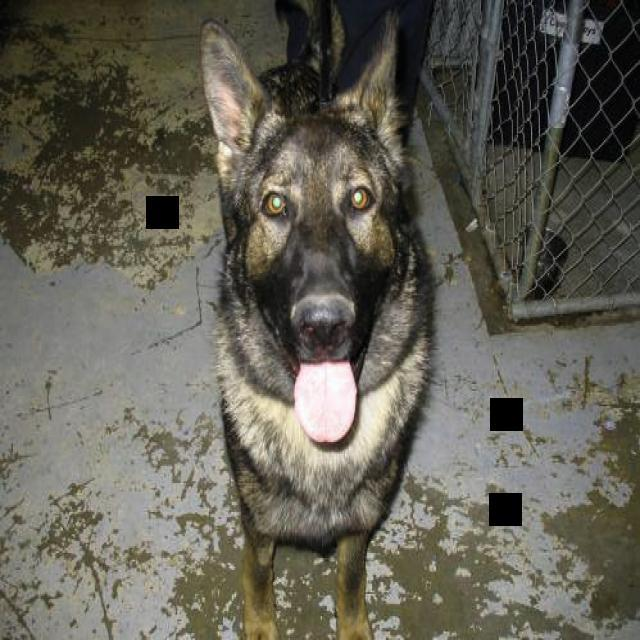adult_dog: (195, 1, 435, 640)
